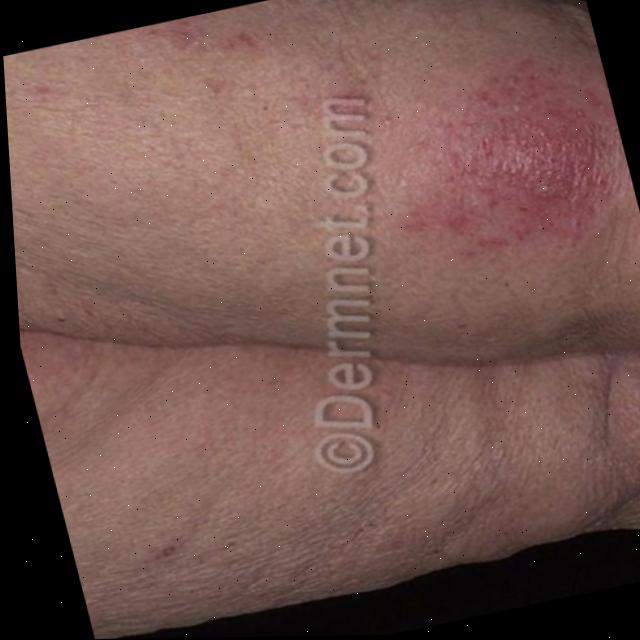Eczema: (347, 30, 640, 286)
